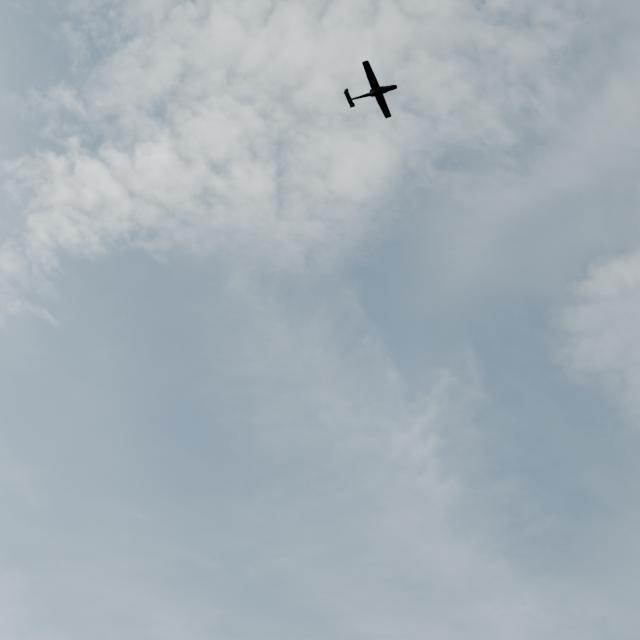Airaplan: (344, 60, 398, 118)
